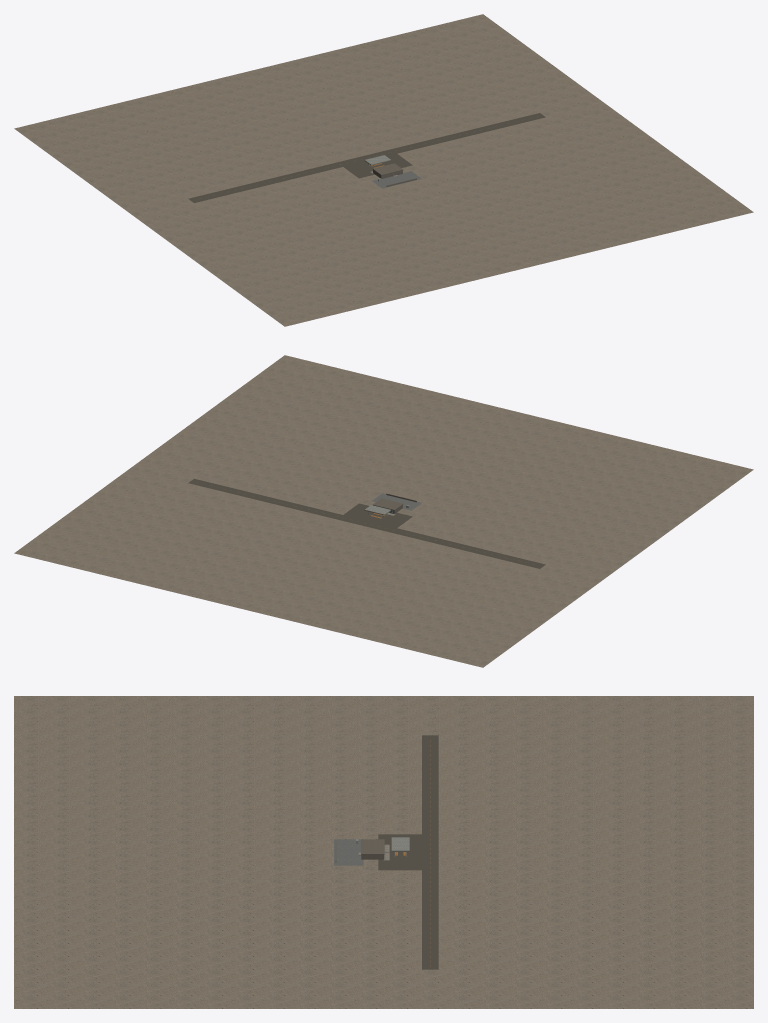
Rendered from map.glb.
The picture shows the model from 3 angles, top to bottom: view 1: azimuth 30°, elevation 25°; view 2: azimuth 150°, elevation 25°; view 3: azimuth 270°, elevation 25°; orthographic projection. The views are drawn at different scales.
Visible parts, largest first — view 1: NC_map; view 2: NC_map; view 3: NC_map.
Part boxes in pixels (<box>): NC_map: <box>14,14,753,326</box>; NC_map: <box>14,355,753,667</box>; NC_map: <box>14,696,753,1008</box>.
Size of the model in its own units: 400 by 5.04 by 400.
Materials: 16 (16 with a texture image).
